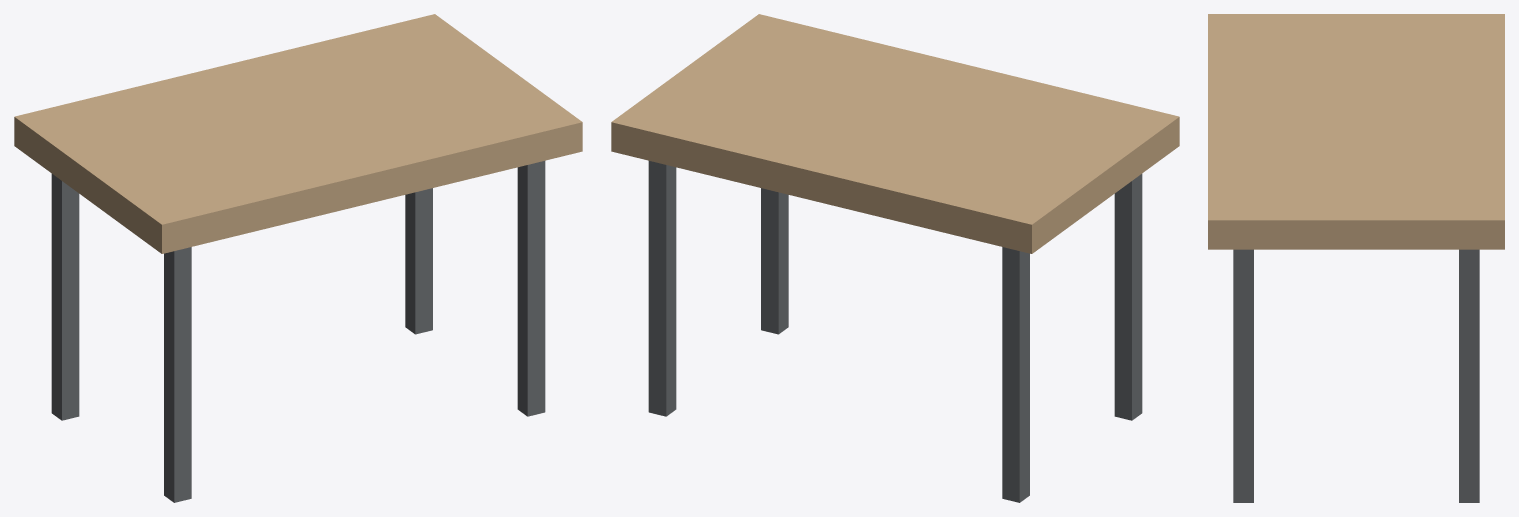
Rendered from table_01.glb.
The picture shows the model from 3 angles, left to right: view 1: azimuth 30°, elevation 25°; view 2: azimuth 150°, elevation 25°; view 3: azimuth 270°, elevation 25°; orthographic projection.
Visible parts, largest first — view 1: top, leg0.5040.2774, leg-0.5040.2774, leg-0.504-0.2774, leg0.504-0.2774; view 2: top, leg0.504-0.2774, leg-0.504-0.2774, leg-0.5040.2774, leg0.5040.2774; view 3: top, leg0.504-0.2774, leg0.5040.2774.
Boxes of the visible parts, x1=… form: top: x1=14, y1=14, x2=582, y2=253; leg0.5040.2774: x1=517, y1=161, x2=545, y2=416; leg-0.5040.2774: x1=164, y1=247, x2=191, y2=502; leg-0.504-0.2774: x1=51, y1=174, x2=79, y2=420; leg0.504-0.2774: x1=405, y1=188, x2=432, y2=334; top: x1=611, y1=14, x2=1179, y2=253; leg0.504-0.2774: x1=648, y1=161, x2=676, y2=416; leg-0.504-0.2774: x1=1002, y1=247, x2=1029, y2=502; leg-0.5040.2774: x1=1114, y1=174, x2=1142, y2=420; leg0.5040.2774: x1=761, y1=188, x2=788, y2=334; top: x1=1208, y1=14, x2=1504, y2=249; leg0.504-0.2774: x1=1459, y1=249, x2=1479, y2=502; leg0.5040.2774: x1=1233, y1=249, x2=1253, y2=502.
Bounding box in the file's own units: 1.2 × 0.8 × 0.73.
